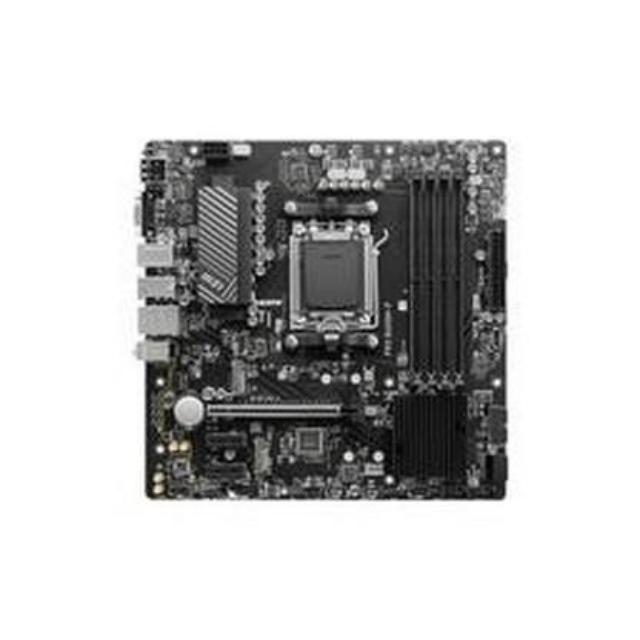Mainboard: (140, 132, 508, 514)
